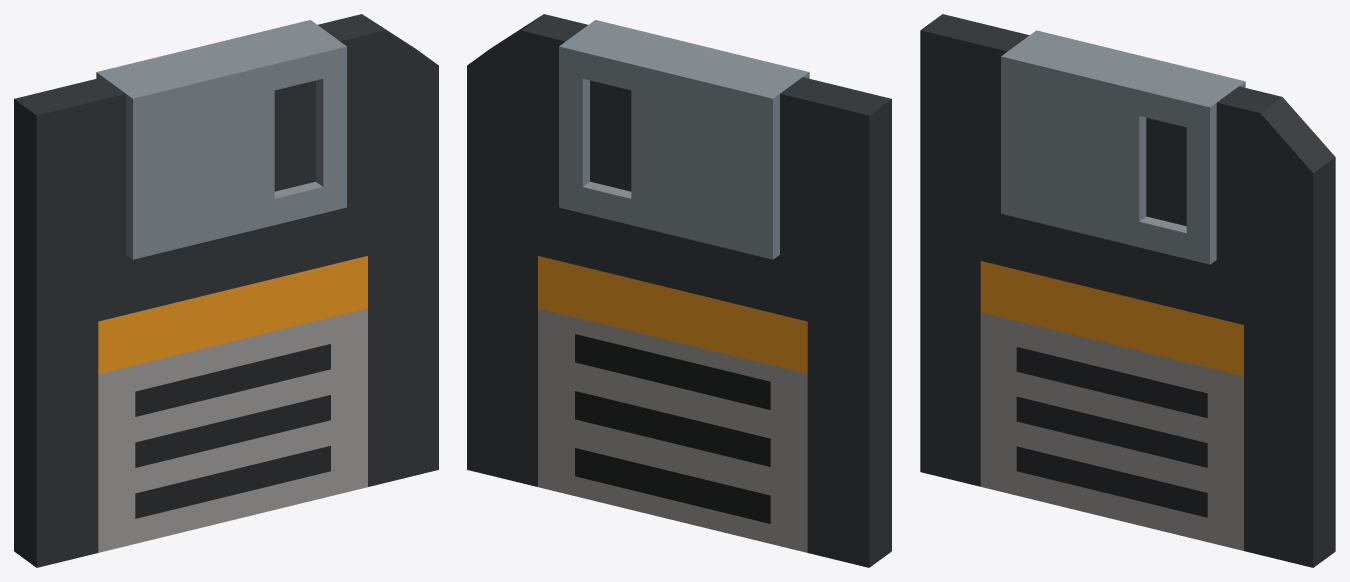
File: SM_Icon_Save_01.fbx
3 views of the same model, side by side, from view 1: azimuth 30°, elevation 25°; view 2: azimuth 150°, elevation 25°; view 3: azimuth 330°, elevation 25° (orthographic). The views are drawn at different scales.
Visible parts, largest first — view 1: SM_Icon_Save_01; view 2: SM_Icon_Save_01; view 3: SM_Icon_Save_01.
Boxes of the visible parts, x1=… form: SM_Icon_Save_01: x1=14, y1=14, x2=438, y2=567; SM_Icon_Save_01: x1=467, y1=14, x2=891, y2=567; SM_Icon_Save_01: x1=920, y1=14, x2=1335, y2=567.
Bounding box in the file's own units: 53.98 × 58.02 × 8.48.
